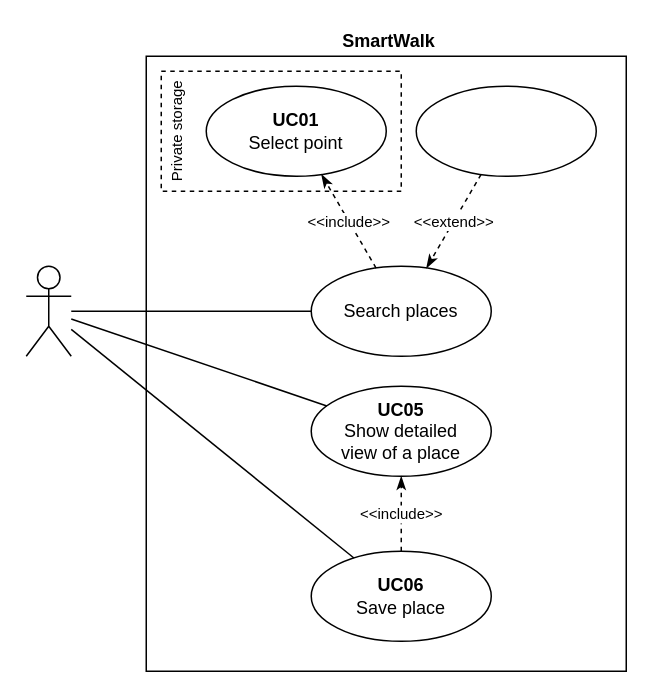
Image size: 653x698. Some labels were removed from this diagram. The shapes that lost their labels are listed below. From the top down, each one's centre as x and y in pixels, then its label:
the point at 505,130: UC02 Add category
the point at 48,310: User
